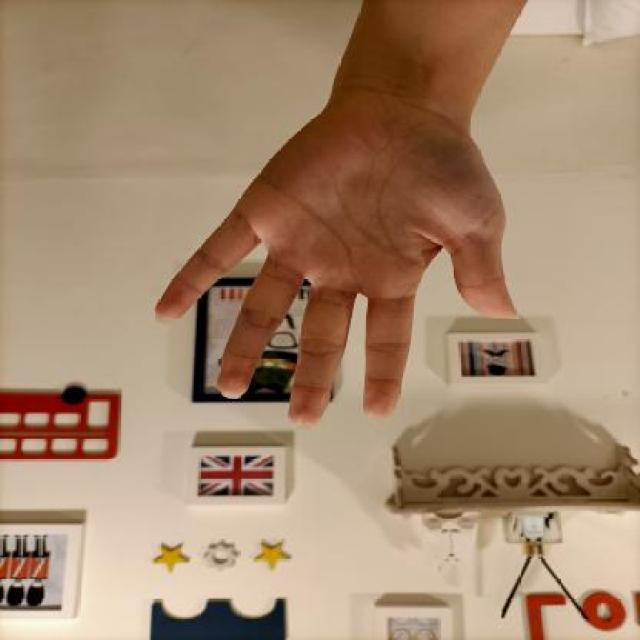bare_hand: (138, 96, 534, 438)
